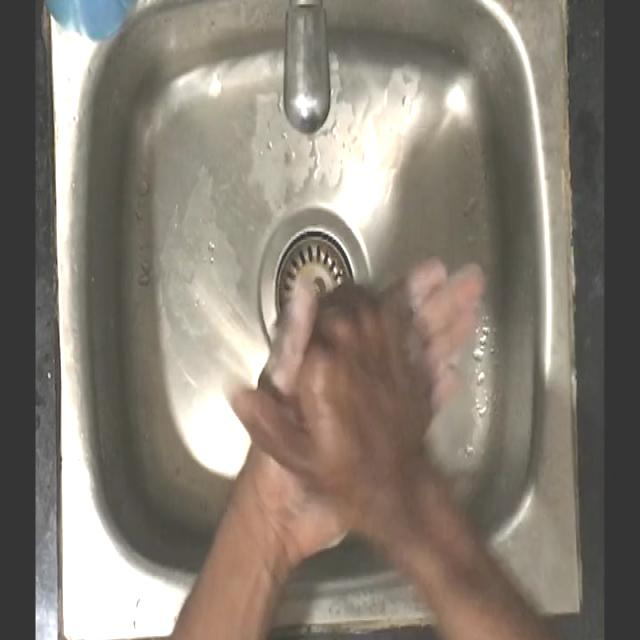step_5: (212, 244, 498, 558)
